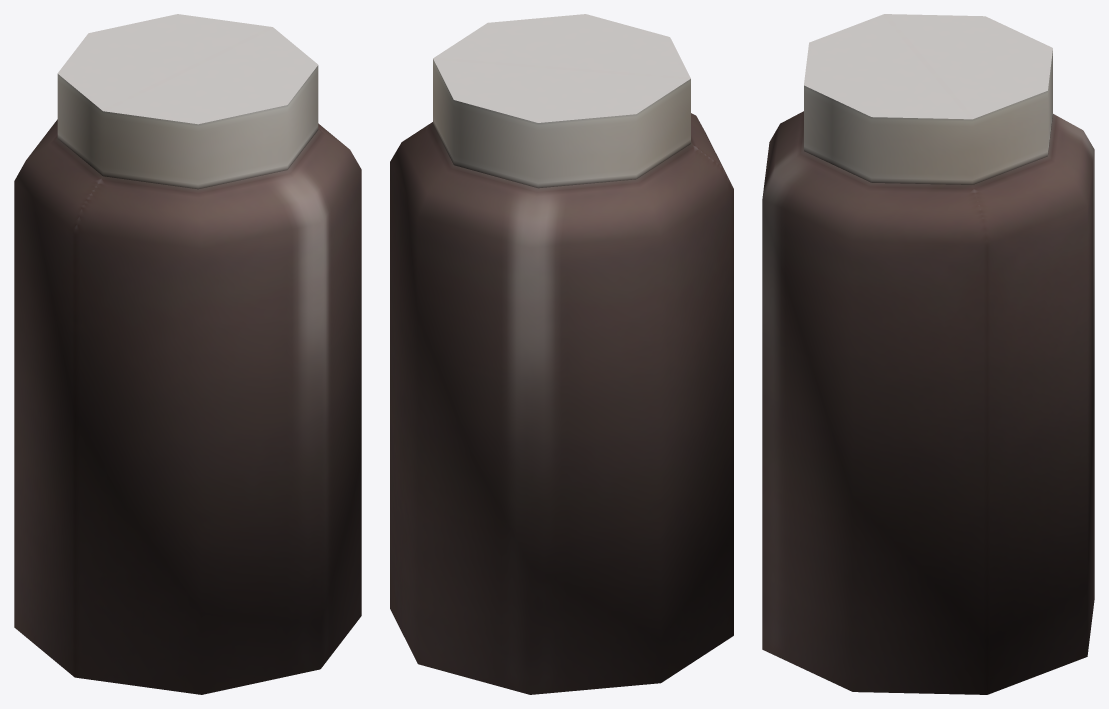
The model's file is XiuXiShi_01_pingzi_04.FBX.
3 renders of one model, left to right at view 1: azimuth 30°, elevation 25°; view 2: azimuth 150°, elevation 25°; view 3: azimuth 270°, elevation 25°, orthographic.
Parts seen in each view (by area): view 1: pingzi_04; view 2: pingzi_04; view 3: pingzi_04.
Boxes of the visible parts, x1,y1,x2,y2 form: pingzi_04: (14,14,361,694); pingzi_04: (390,14,733,694); pingzi_04: (762,14,1094,694).
Bounding box in the file's own units: 49.02 × 90.89 × 49.02.
